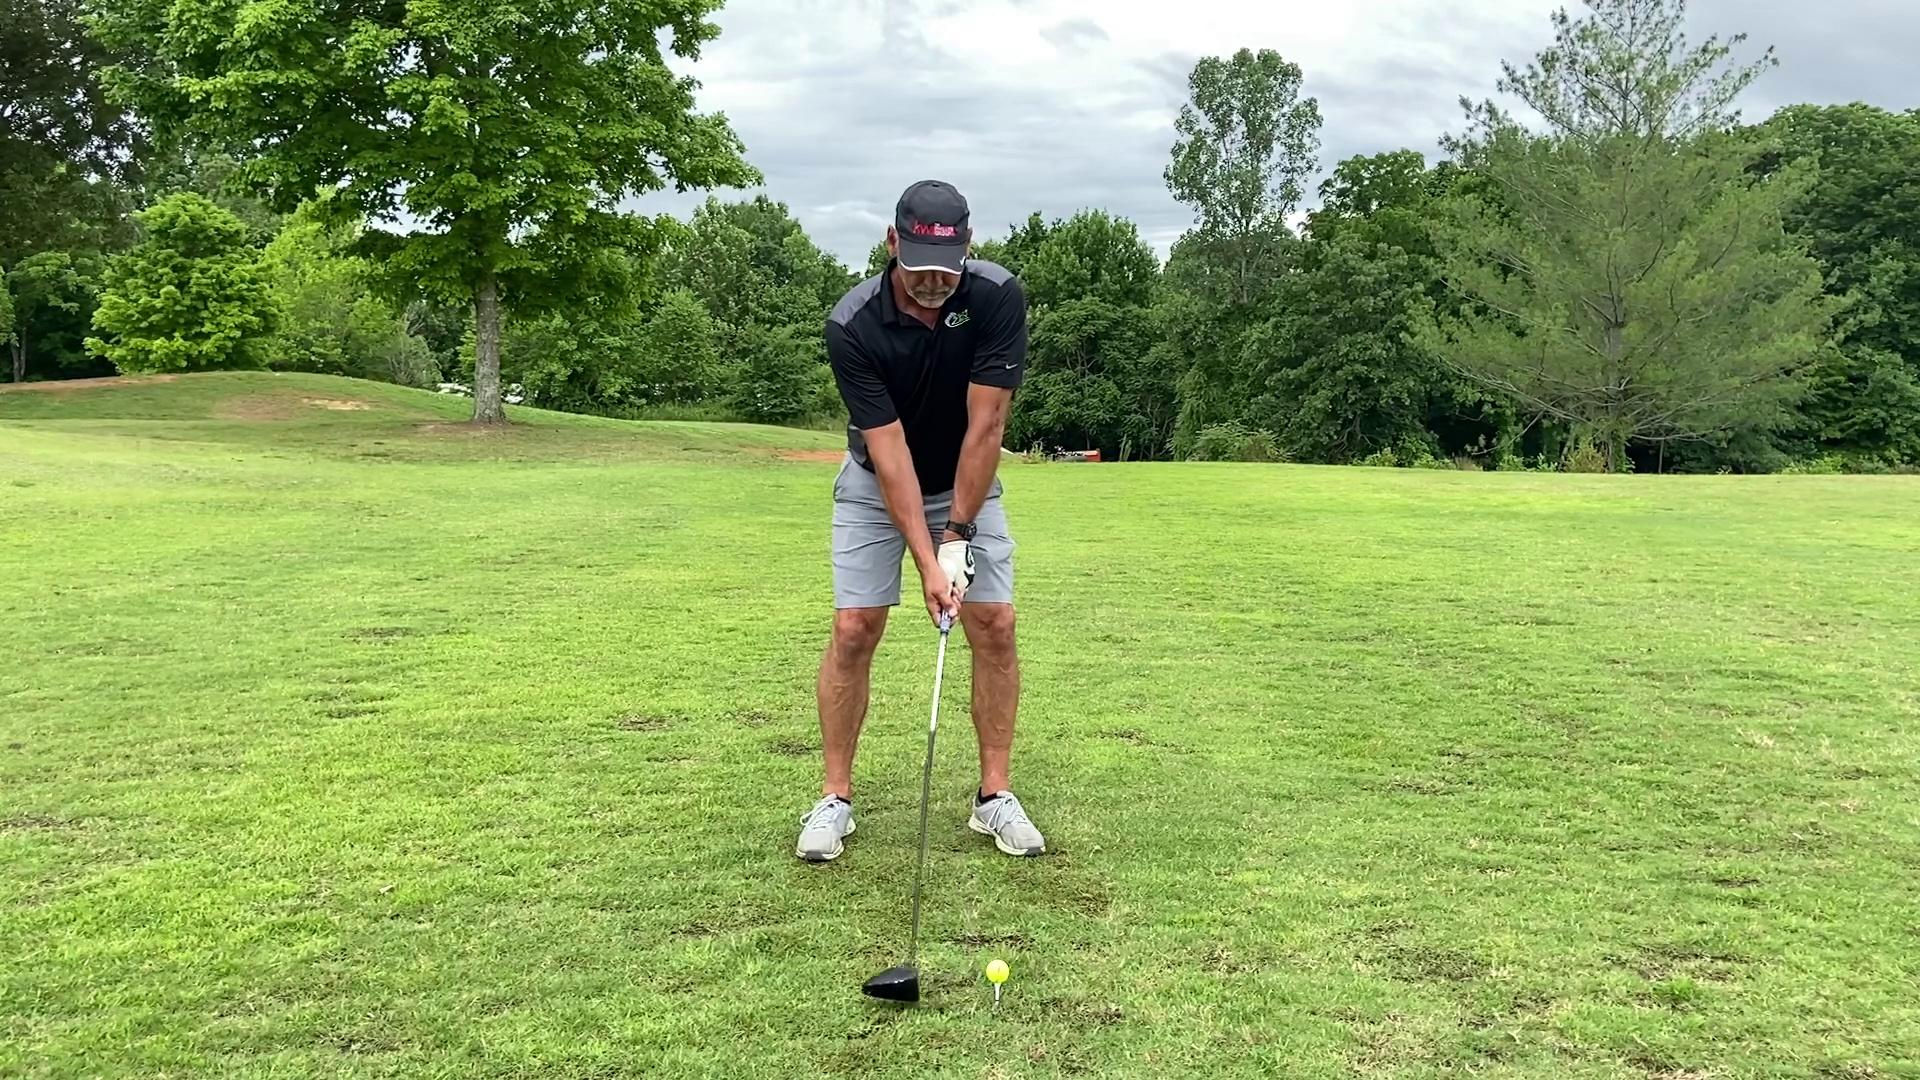ClubHead: (858, 955, 924, 1005)
GolfBall: (982, 957, 1011, 985)
